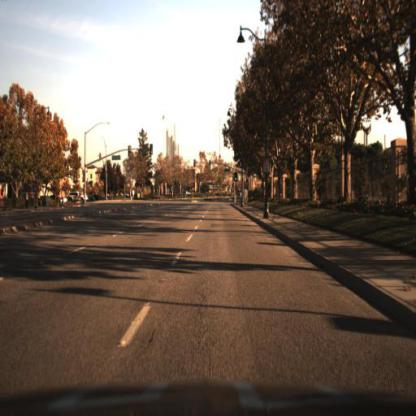car: (65, 189, 89, 204), (68, 192, 89, 206)
pedestrian: (21, 189, 31, 215), (24, 191, 31, 211)
trafficLight-Green: (233, 173, 240, 187), (208, 160, 214, 173)
trafficLight-RedLeft: (194, 159, 200, 172)
